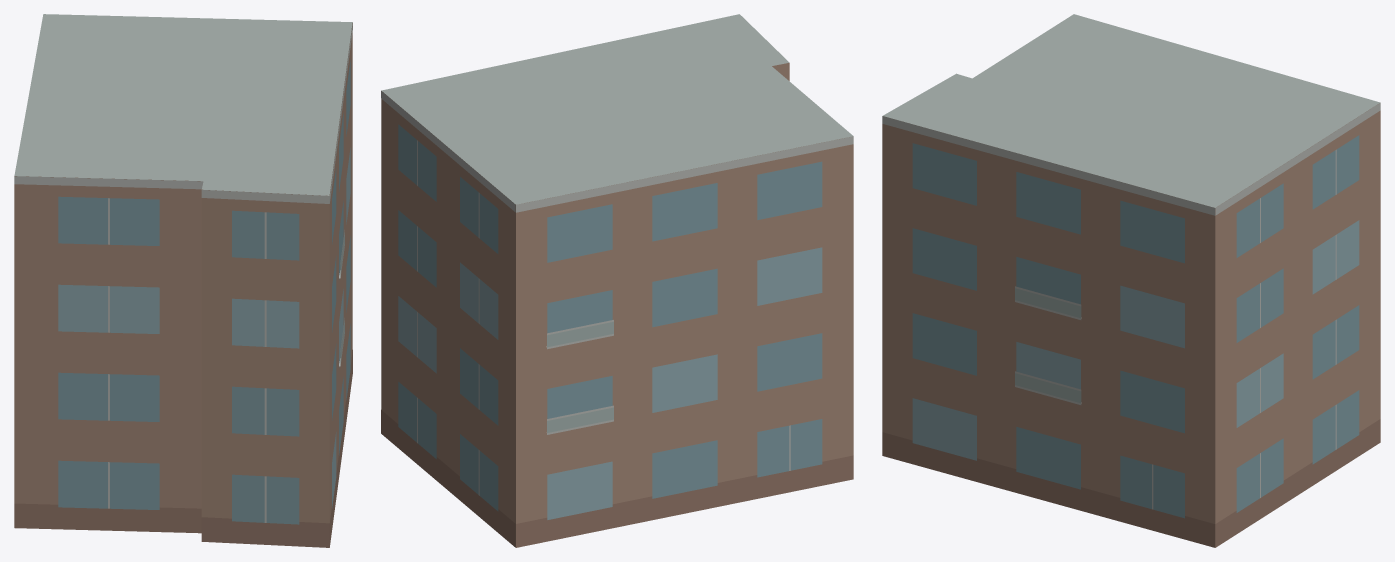
The model's file is survey-upis-32945584.glb.
The picture shows the model from 3 angles, left to right: view 1: azimuth 30°, elevation 25°; view 2: azimuth 150°, elevation 25°; view 3: azimuth 270°, elevation 25°; orthographic projection. The views are drawn at different scales.
Parts seen in each view (by area): view 1: survey-upis-32945584.tmp; view 2: survey-upis-32945584.tmp; view 3: survey-upis-32945584.tmp.
Part boxes in pixels (bbox=[...]): survey-upis-32945584.tmp: bbox=[14, 14, 352, 547]; survey-upis-32945584.tmp: bbox=[381, 14, 853, 547]; survey-upis-32945584.tmp: bbox=[882, 14, 1380, 547].
Size of the model in its own units: 12.85 by 10.5 by 13.95.
